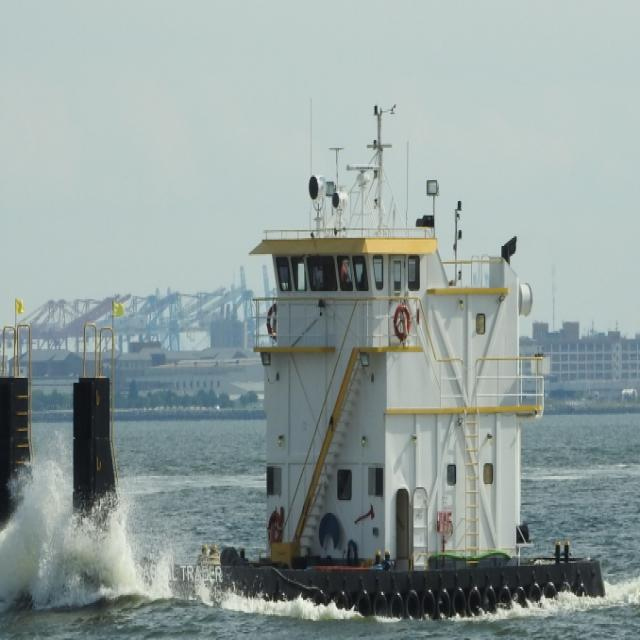tugboat: (1, 92, 612, 640)
